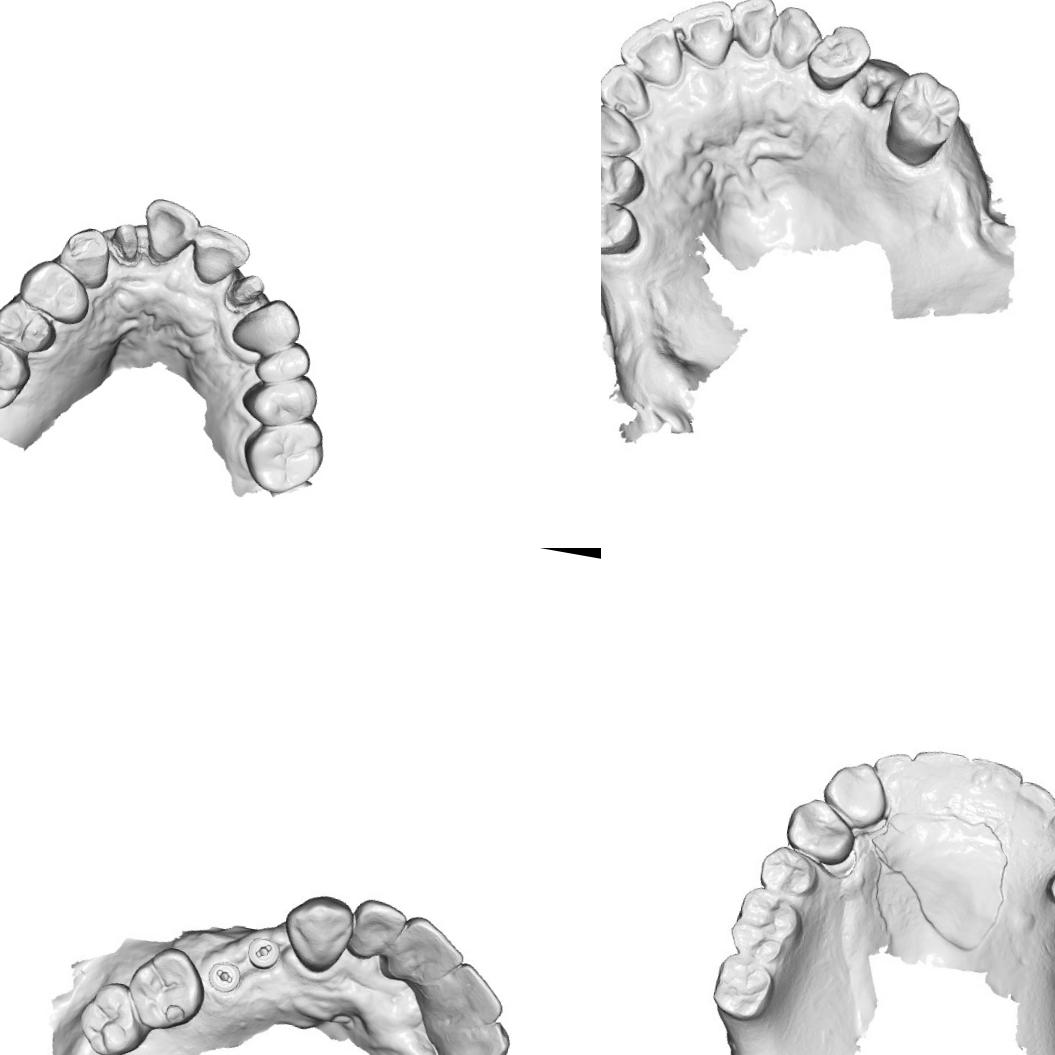canine: (277, 886, 361, 978), (818, 754, 890, 829), (51, 222, 116, 294), (766, 3, 822, 71), (601, 98, 647, 162), (1043, 810, 1055, 864)
crown: (224, 266, 272, 315), (108, 214, 148, 268)
implant_minus: (204, 950, 244, 997), (241, 935, 281, 975)
incisor: (377, 901, 463, 992), (421, 956, 506, 1032), (184, 218, 254, 293), (346, 892, 419, 963), (136, 193, 204, 269), (617, 14, 688, 85), (435, 1008, 529, 1055), (912, 744, 980, 808), (963, 754, 1028, 813), (676, 0, 737, 60), (728, 0, 783, 59), (601, 62, 654, 120), (870, 747, 922, 804), (1010, 777, 1055, 826)
molar: (873, 67, 970, 174), (234, 405, 330, 502), (118, 943, 208, 1036), (70, 975, 147, 1055), (235, 365, 323, 434), (726, 884, 803, 960), (706, 945, 775, 1019), (0, 328, 38, 417)
premolar: (11, 250, 96, 328), (800, 17, 875, 99), (224, 288, 306, 362), (784, 792, 858, 859), (0, 294, 61, 359), (250, 332, 315, 392), (758, 846, 814, 900), (601, 195, 641, 260), (601, 148, 638, 206)
